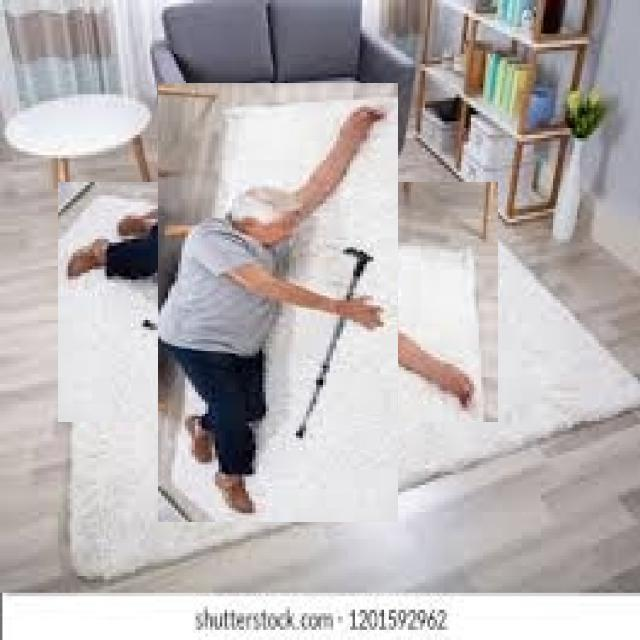Fall: (160, 104, 384, 530)
